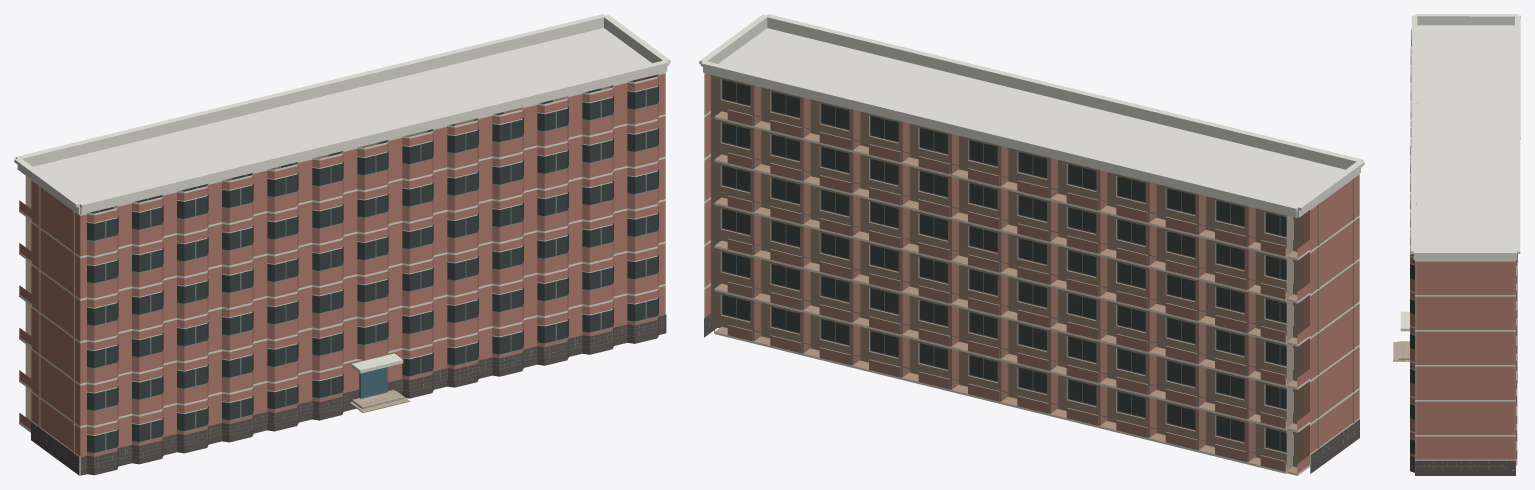
Rendered from chunk-dorm-way-759147064.glb.
3 views of the same model, side by side, from view 1: azimuth 30°, elevation 25°; view 2: azimuth 150°, elevation 25°; view 3: azimuth 270°, elevation 25° (orthographic). The views are drawn at different scales.
Visible parts, largest first — view 1: chunk-dorm-way-759147064; view 2: chunk-dorm-way-759147064; view 3: chunk-dorm-way-759147064.
Part boxes in pixels (x1,y1,x2,y2): chunk-dorm-way-759147064: (14,14,670,475); chunk-dorm-way-759147064: (699,14,1364,475); chunk-dorm-way-759147064: (1393,14,1520,475).
Size of the model in its own units: 48.32 by 21.18 by 10.91.
13 materials, 1 textured.
